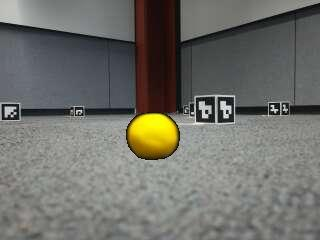lemon: (127, 113, 179, 160)
